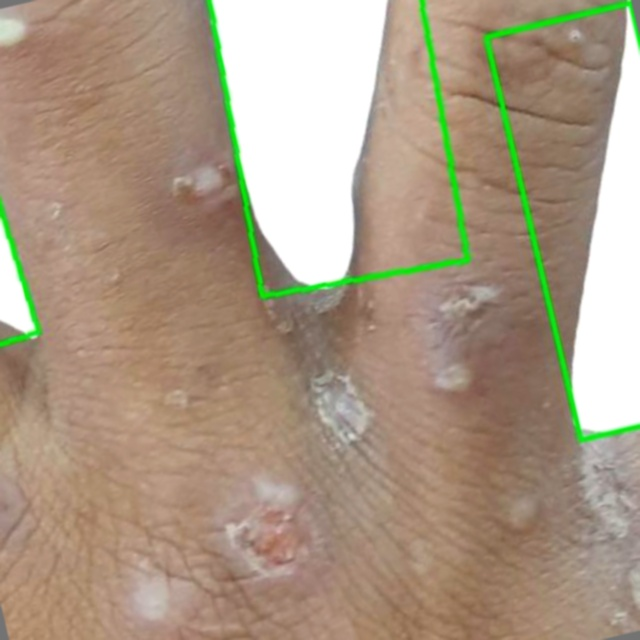Scabies: (209, 0, 467, 297), (486, 3, 639, 439)
